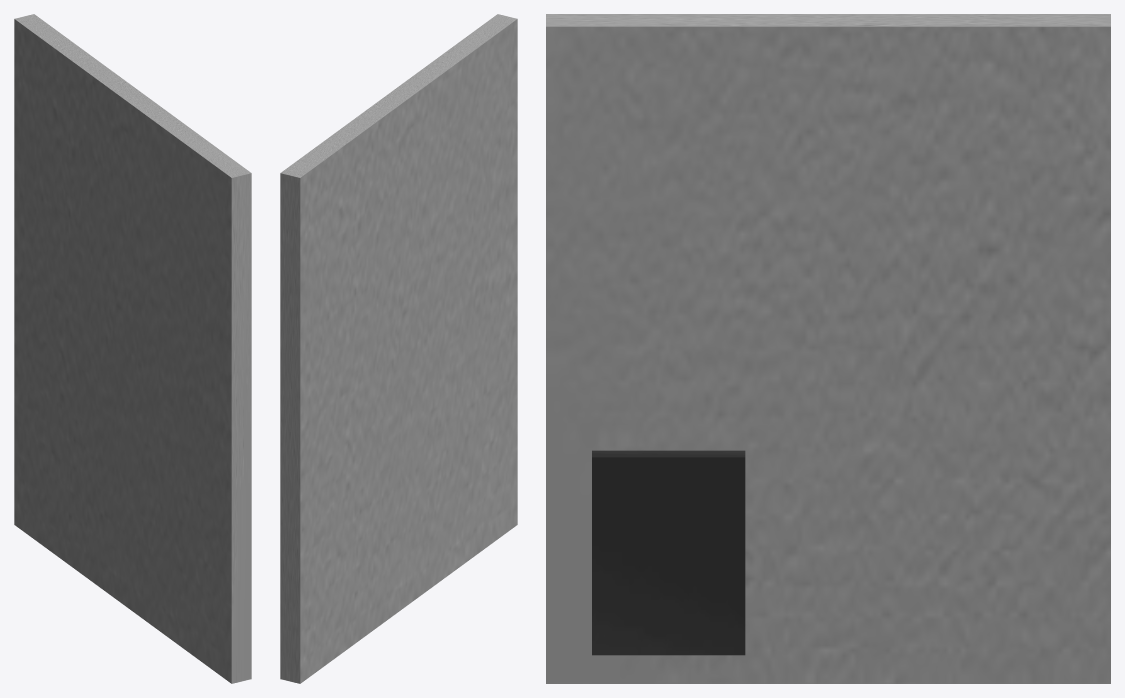
The model's file is puertaest.obj.
The picture shows the model from 3 angles, left to right: view 1: azimuth 30°, elevation 25°; view 2: azimuth 150°, elevation 25°; view 3: azimuth 270°, elevation 25°; orthographic projection. The views are drawn at different scales.
Parts seen in each view (by area): view 1: estante:pCube20; view 2: estante:pCube20; view 3: estante:pCube20, estante:pCube24.
Part boxes in pixels (box(x1,y1,x2,y2)): estante:pCube20: box(14, 14, 251, 683); estante:pCube20: box(280, 14, 517, 683); estante:pCube20: box(546, 14, 1110, 683); estante:pCube24: box(592, 450, 745, 655).
Bounding box in the file's own units: 0.0434 × 0.6908 × 0.5381.
2 materials, 2 textured.
